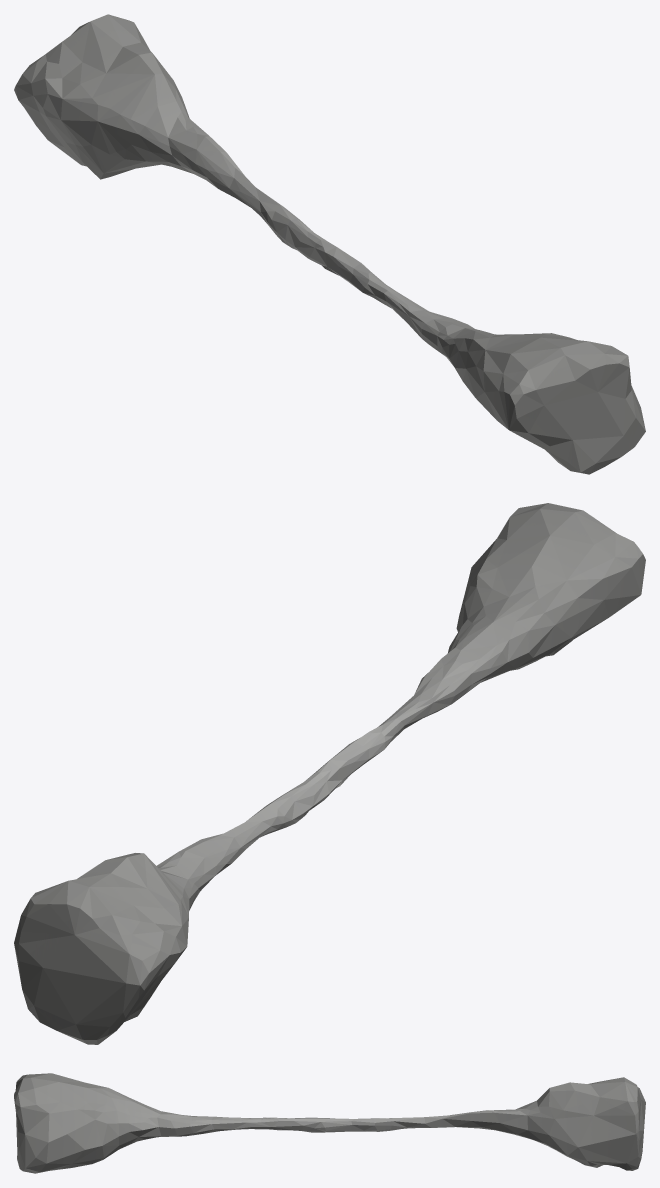
The model's file is Cavern_Pillar_Sideways-02.fbx.
The picture shows the model from 3 angles, top to bottom: view 1: azimuth 30°, elevation 25°; view 2: azimuth 150°, elevation 25°; view 3: azimuth 270°, elevation 25°; orthographic projection. The views are drawn at different scales.
Visible parts, largest first — view 1: Cavern_Pillar_Sideways-02; view 2: Cavern_Pillar_Sideways-02; view 3: Cavern_Pillar_Sideways-02.
Boxes of the visible parts, <box> form: Cavern_Pillar_Sideways-02: <box>14,14,645,474</box>; Cavern_Pillar_Sideways-02: <box>14,503,645,1044</box>; Cavern_Pillar_Sideways-02: <box>14,1073,645,1173</box>.
Size of the model in its own units: 578 by 502 by 3007.
Materials: 1 (1 with a texture image).
